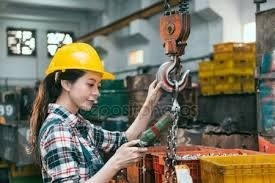helmet: (45, 41, 117, 80)
person with partial safety: (32, 40, 137, 182)
